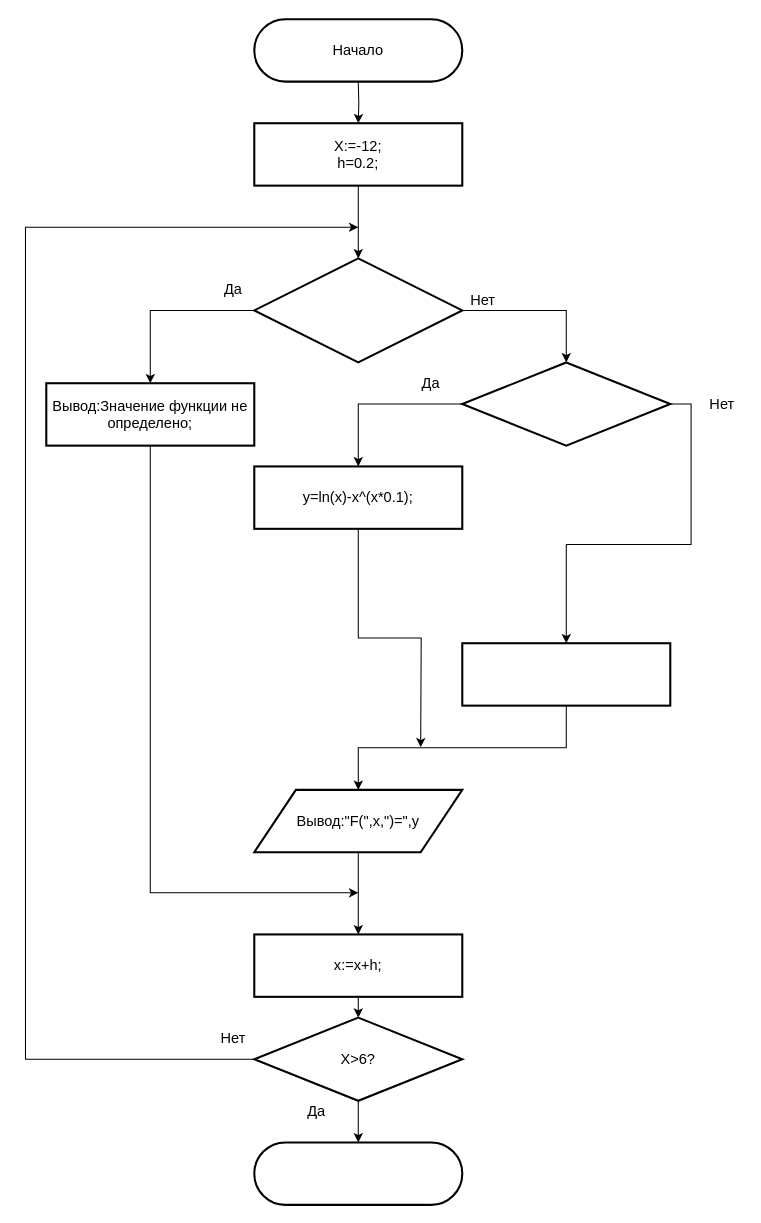
The diagram is 761 pixels wide and 1223 high, and some of its shapes have lost their labels. Each missing label, with the box of its shape:
0<x<4?: (461, 361, 671, 446)
x<=0?: (253, 257, 463, 363)
y=tan(x);: (461, 642, 671, 706)
Конец: (253, 1141, 463, 1205)
